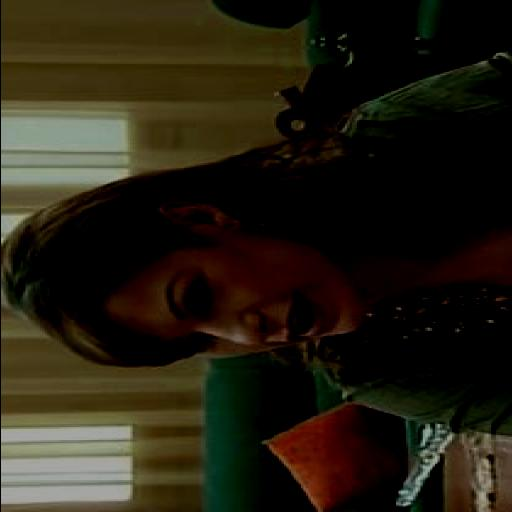zeineb: (99, 202, 364, 358)
